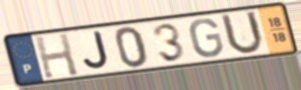0: (113, 25, 150, 69)
3: (151, 22, 187, 62)
G: (188, 17, 226, 59)
H: (33, 32, 81, 81)
J: (81, 30, 112, 72)
U: (219, 9, 266, 57)
